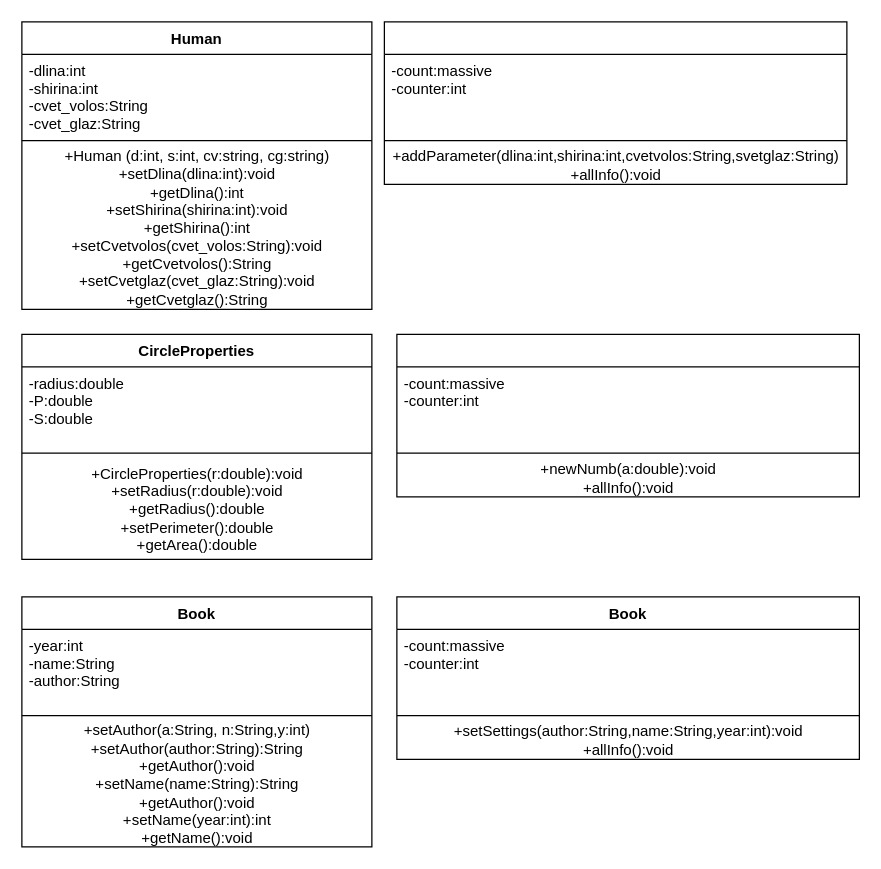
Some shapes in this 881 by 869 pixel diagram are drawn without their labels. Here are the shapes that lost their labels. From the top down, the box of each, then its label:
(383, 21, 847, 184): HumanOut
(396, 333, 859, 497): Circle
